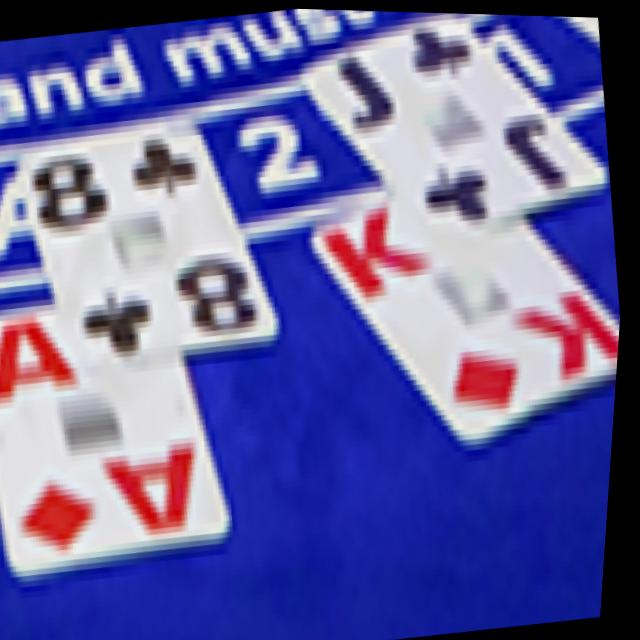Card-8: (22, 116, 282, 382)
Card-A: (0, 310, 237, 577)
Card-J: (303, 10, 606, 254)
Card-K: (313, 188, 624, 439)
